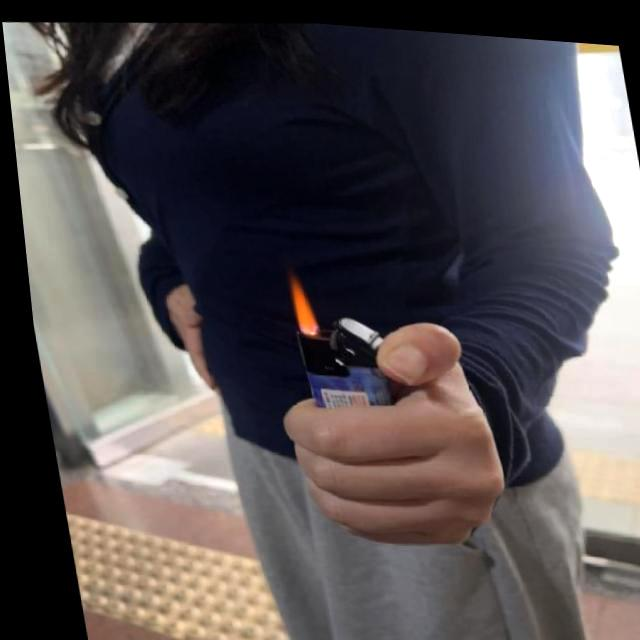fire: (282, 272, 316, 332)
